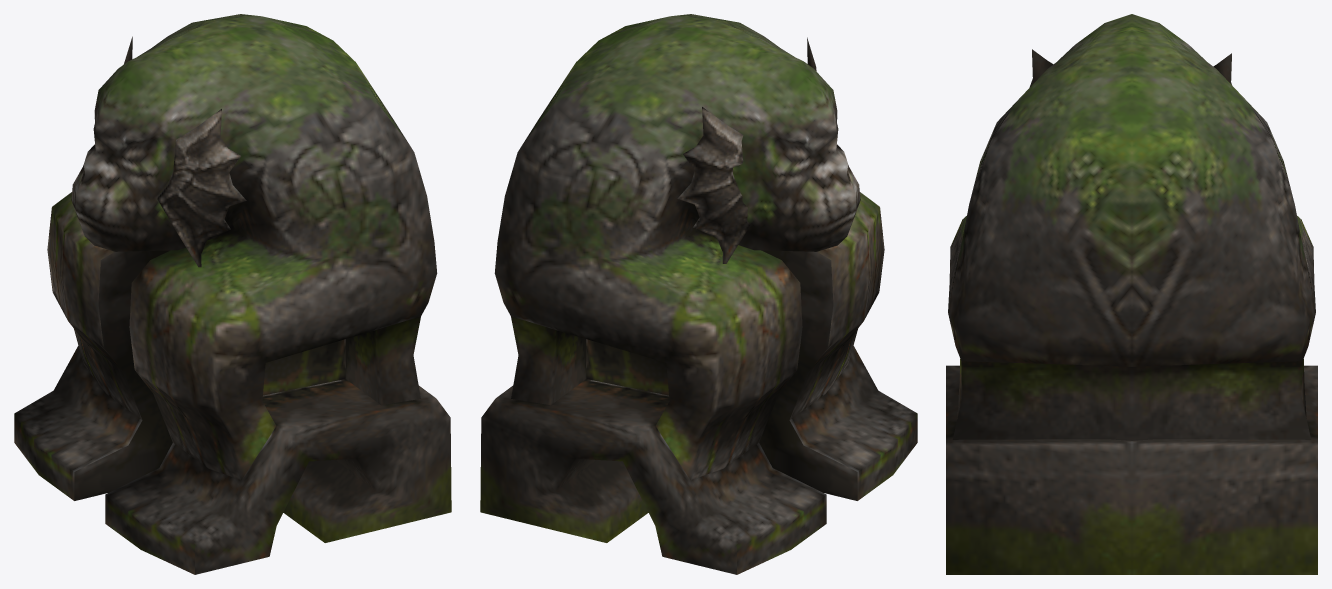
Rendered from yj_guaishou_1.FBX.
The picture shows the model from 3 angles, left to right: view 1: azimuth 30°, elevation 25°; view 2: azimuth 150°, elevation 25°; view 3: azimuth 270°, elevation 25°; orthographic projection. The views are drawn at different scales.
Parts seen in each view (by area): view 1: yj_guaishou_1; view 2: yj_guaishou_1; view 3: yj_guaishou_1.
Boxes of the visible parts, x1=… form: yj_guaishou_1: x1=14, y1=14, x2=451, y2=574; yj_guaishou_1: x1=480, y1=14, x2=917, y2=574; yj_guaishou_1: x1=946, y1=14, x2=1317, y2=574.
Bounding box in the file's own units: 2264 × 3173 × 2341.
